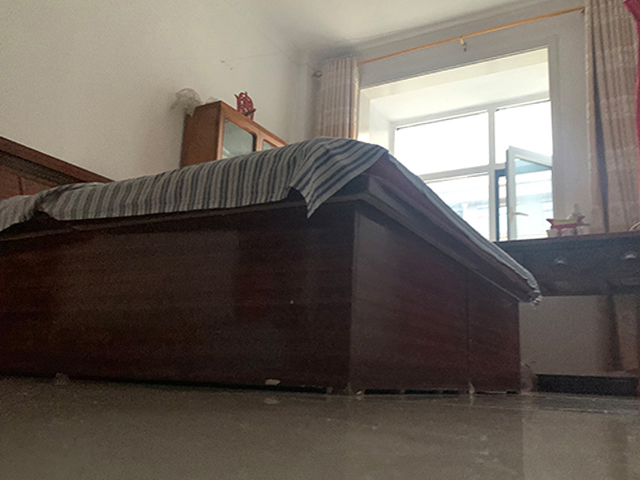bed: (1, 135, 542, 398)
curtain: (583, 1, 640, 375)
